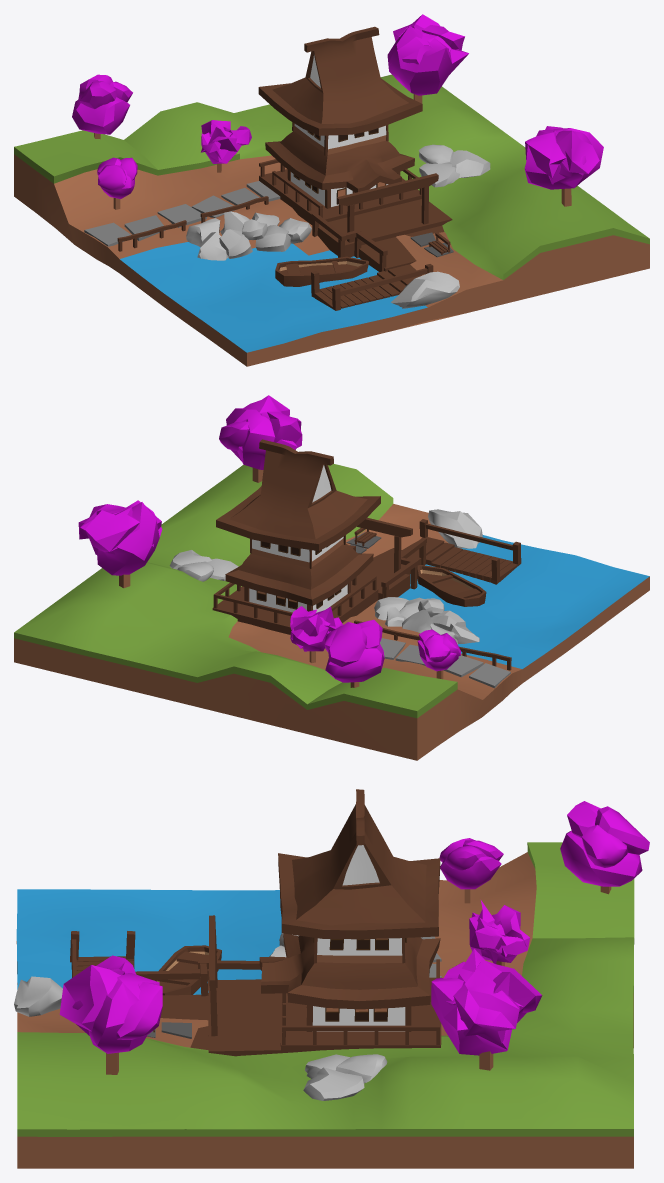
3 renders of one model, top to bottom at view 1: azimuth 30°, elevation 25°; view 2: azimuth 150°, elevation 25°; view 3: azimuth 270°, elevation 25°, orthographic. The views are drawn at different scales.
Visible parts, largest first — view 1: Old Japanese House; view 2: Old Japanese House; view 3: Old Japanese House.
Boxes of the visible parts, x1,y1,x2,y2 form: Old Japanese House: [14, 14, 649, 366]; Old Japanese House: [14, 395, 649, 760]; Old Japanese House: [14, 789, 649, 1168].
Bounding box in the file's own units: 2.03 × 0.8715 × 2.06.
